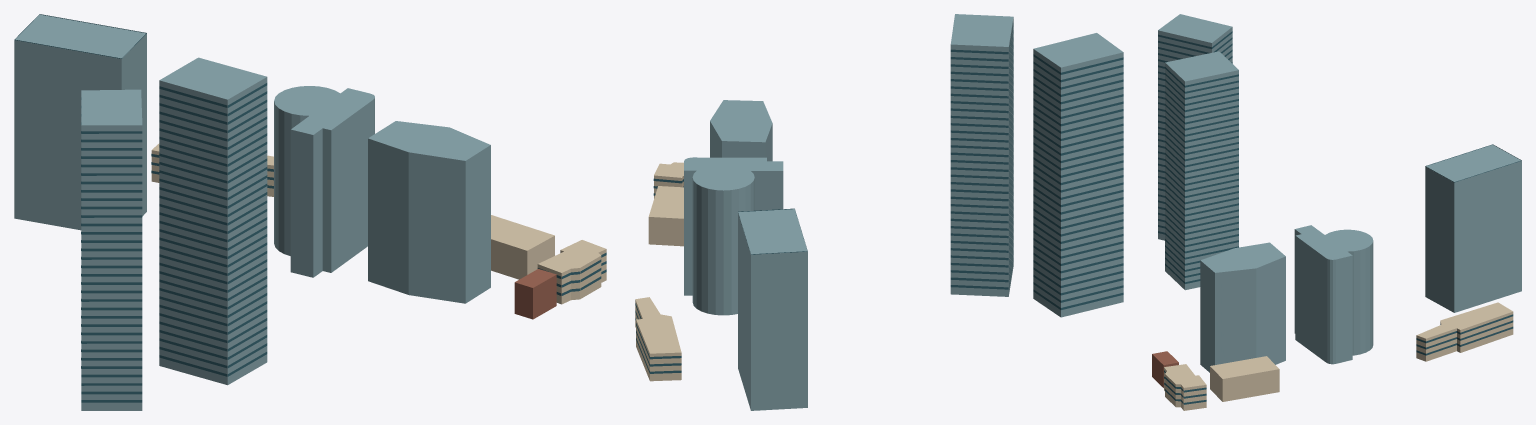
Rendered from city_3_-7.glb.
3 views of the same model, side by side, from view 1: azimuth 30°, elevation 25°; view 2: azimuth 150°, elevation 25°; view 3: azimuth 270°, elevation 25° (orthographic). The views are drawn at different scales.
Visible parts, largest first — view 1: city_3_-7; view 2: city_3_-7; view 3: city_3_-7.
Boxes of the visible parts, box(x1,y1,x2,y2) form: city_3_-7: box(14, 14, 606, 410); city_3_-7: box(635, 14, 1123, 410); city_3_-7: box(1152, 14, 1521, 410).
Bounding box in the file's own units: 263 × 136 × 218.
